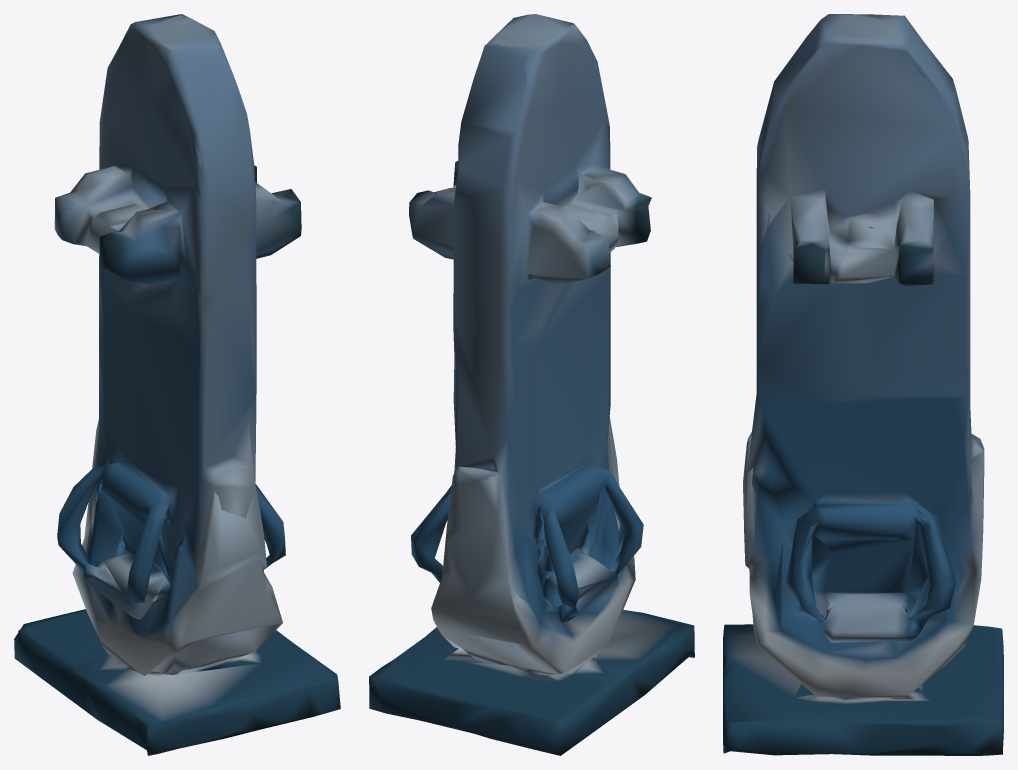
The model's file is gen3d-snowboard-lod0.glb.
3 renders of one model, left to right at view 1: azimuth 30°, elevation 25°; view 2: azimuth 150°, elevation 25°; view 3: azimuth 270°, elevation 25°, orthographic. The views are drawn at different scales.
Visible parts, largest first — view 1: part_0; view 2: part_0; view 3: part_0.
Part boxes in pixels (<box>): part_0: <box>14,14,340,755</box>; part_0: <box>369,14,694,755</box>; part_0: <box>723,14,1003,755</box>.
Size of the model in its own units: 0.3064 by 0.9964 by 0.3675.
